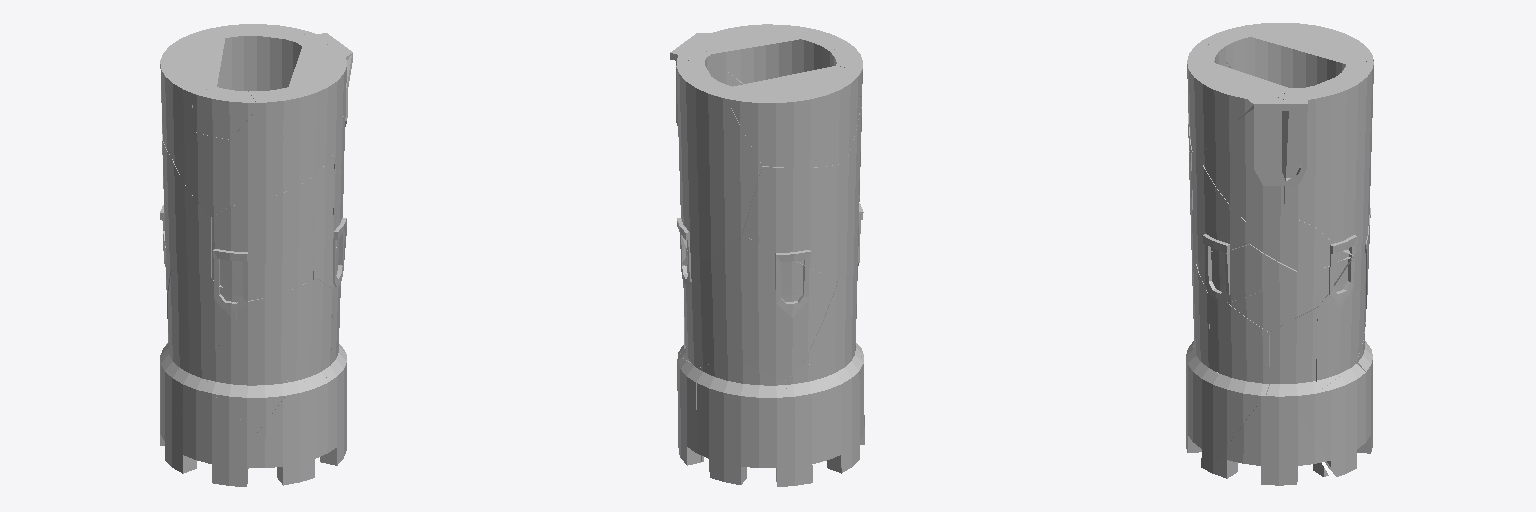
File: destruction_tower_000005.obj
The picture shows the model from 3 angles: view 1: azimuth 30°, elevation 25°; view 2: azimuth 150°, elevation 25°; view 3: azimuth 270°, elevation 25°; orthographic projection.
Visible parts, largest first — view 1: tower.001_cell.024_Mesh.024, tower.001_cell.028_Mesh.028, tower.001_cell.021_Mesh.021, tower.001_cell.006_Mesh.006, tower.001_cell.011_Mesh.011, tower.001_cell.013_Mesh.013, tower.001_cell.002_Mesh.002, tower.001_cell.015_Mesh.015, tower.001_cell.009_Mesh.009, tower.001_cell.017_Mesh.017, tower.001_cell.003_Mesh.003, tower.001_cell.014_Mesh.014 (+9 smaller); view 2: tower.001_cell.025_Mesh.025, tower.001_cell.017_Mesh.017, tower.001_cell.007_Mesh.007, tower.001_cell.015_Mesh.015, tower.001_cell.003_Mesh.003, tower.001_cell.028_Mesh.028, tower.001_cell.005_Mesh.005, tower.001_cell.012_Mesh.012, tower.001_cell.009_Mesh.009, tower.001_cell.029_Mesh.029, tower.001_cell.006_Mesh.006, tower.001_cell.026_Mesh.026 (+1 smaller); view 3: tower.001_cell.017_Mesh.017, tower.001_cell.020_Mesh.020, tower.001_cell.015_Mesh.015, tower.001_cell.028_Mesh.028, tower.001_cell.030_Mesh.030, tower.001_cell.029_Mesh.029, tower.001_cell_Mesh, tower.001_cell.012_Mesh.012, tower.001_cell.016_Mesh.016, tower.001_cell.027_Mesh.027, tower.001_cell.023_Mesh.023, tower.001_cell.026_Mesh.026 (+8 smaller).
Boxes of the visible parts, <box> form: tower.001_cell.024_Mesh.024: <box>212,175,315,301</box>; tower.001_cell.028_Mesh.028: <box>249,46,352,170</box>; tower.001_cell.021_Mesh.021: <box>236,279,332,384</box>; tower.001_cell.006_Mesh.006: <box>163,389,255,486</box>; tower.001_cell.011_Mesh.011: <box>256,374,329,485</box>; tower.001_cell.013_Mesh.013: <box>206,321,290,433</box>; tower.001_cell.002_Mesh.002: <box>230,110,317,205</box>; tower.001_cell.015_Mesh.015: <box>160,30,224,156</box>; tower.001_cell.009_Mesh.009: <box>168,271,236,362</box>; tower.001_cell.017_Mesh.017: <box>205,24,311,91</box>; tower.001_cell.003_Mesh.003: <box>160,134,211,277</box>; tower.001_cell.014_Mesh.014: <box>172,131,229,216</box>; tower.001_cell.025_Mesh.025: <box>707,234,837,381</box>; tower.001_cell.017_Mesh.017: <box>676,58,761,262</box>; tower.001_cell.007_Mesh.007: <box>697,354,814,486</box>; tower.001_cell.015_Mesh.015: <box>727,66,860,167</box>; tower.001_cell.003_Mesh.003: <box>742,163,859,279</box>; tower.001_cell.028_Mesh.028: <box>697,24,847,83</box>; tower.001_cell.005_Mesh.005: <box>784,337,863,463</box>; tower.001_cell.012_Mesh.012: <box>680,253,733,367</box>; tower.001_cell.009_Mesh.009: <box>802,245,859,365</box>; tower.001_cell.029_Mesh.029: <box>677,355,700,465</box>; tower.001_cell.006_Mesh.006: <box>827,356,864,473</box>; tower.001_cell.026_Mesh.026: <box>670,46,720,125</box>; tower.001_cell.017_Mesh.017: <box>1314,61,1373,256</box>; tower.001_cell.020_Mesh.020: <box>1201,97,1288,225</box>; tower.001_cell.015_Mesh.015: <box>1251,23,1373,87</box>; tower.001_cell.028_Mesh.028: <box>1187,43,1289,155</box>; tower.001_cell.030_Mesh.030: <box>1212,404,1326,485</box>; tower.001_cell.029_Mesh.029: <box>1297,361,1365,476</box>; tower.001_cell_Mesh: <box>1209,295,1269,404</box>; tower.001_cell.012_Mesh.012: <box>1316,246,1365,388</box>; tower.001_cell.016_Mesh.016: <box>1266,308,1320,409</box>; tower.001_cell.027_Mesh.027: <box>1227,257,1352,331</box>; tower.001_cell.023_Mesh.023: <box>1195,364,1256,472</box>; tower.001_cell.026_Mesh.026: <box>1281,86,1313,225</box>.
Size of the model in its own units: 44.38 by 97.35 by 43.06.